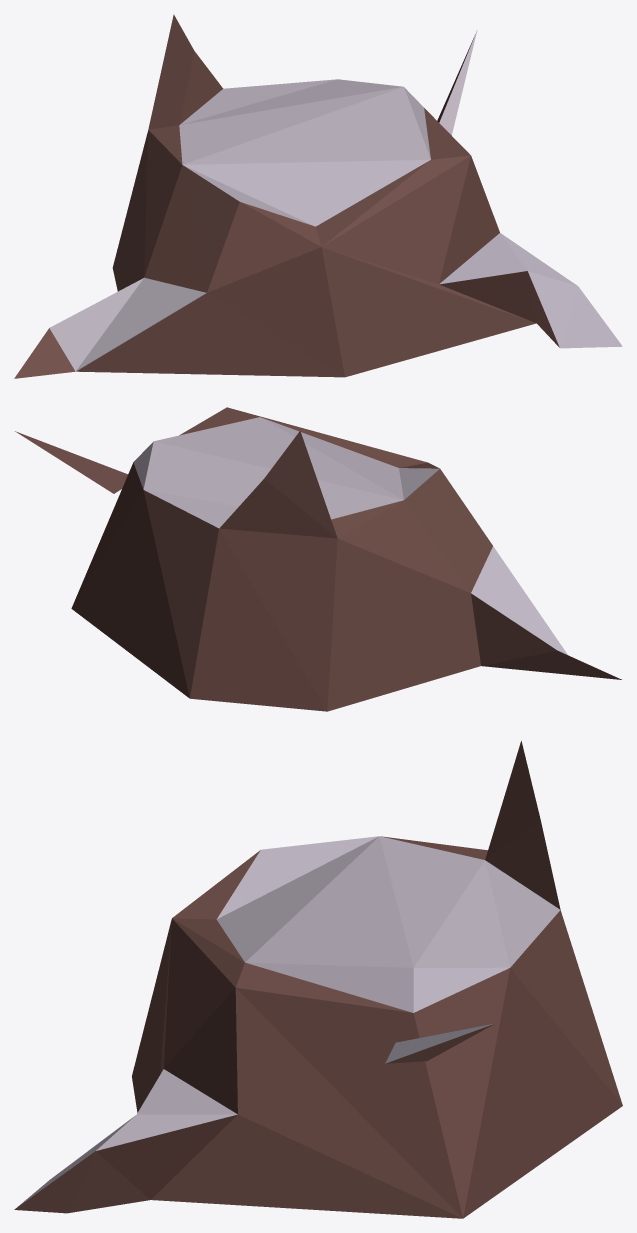
Rendered from TreeStump_Snow.lod2.glb.
The picture shows the model from 3 angles, top to bottom: view 1: azimuth 30°, elevation 25°; view 2: azimuth 150°, elevation 25°; view 3: azimuth 270°, elevation 25°; orthographic projection. The views are drawn at different scales.
Visible parts, largest first — view 1: TreeStump_Snow; view 2: TreeStump_Snow; view 3: TreeStump_Snow.
Part boxes in pixels (x1,y1,x2,y2): TreeStump_Snow: [14, 14, 622, 378]; TreeStump_Snow: [15, 407, 621, 711]; TreeStump_Snow: [14, 741, 622, 1218].
Bounding box in the file's own units: 1.33 × 0.6126 × 1.03.
